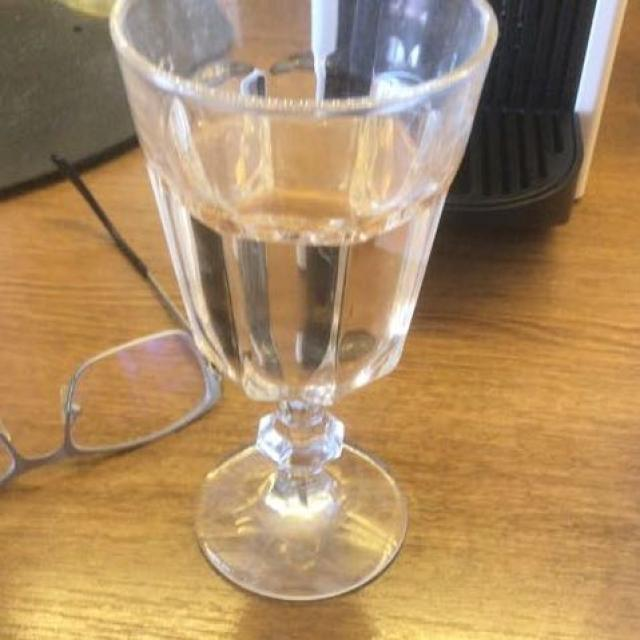wine: (164, 85, 439, 413)
